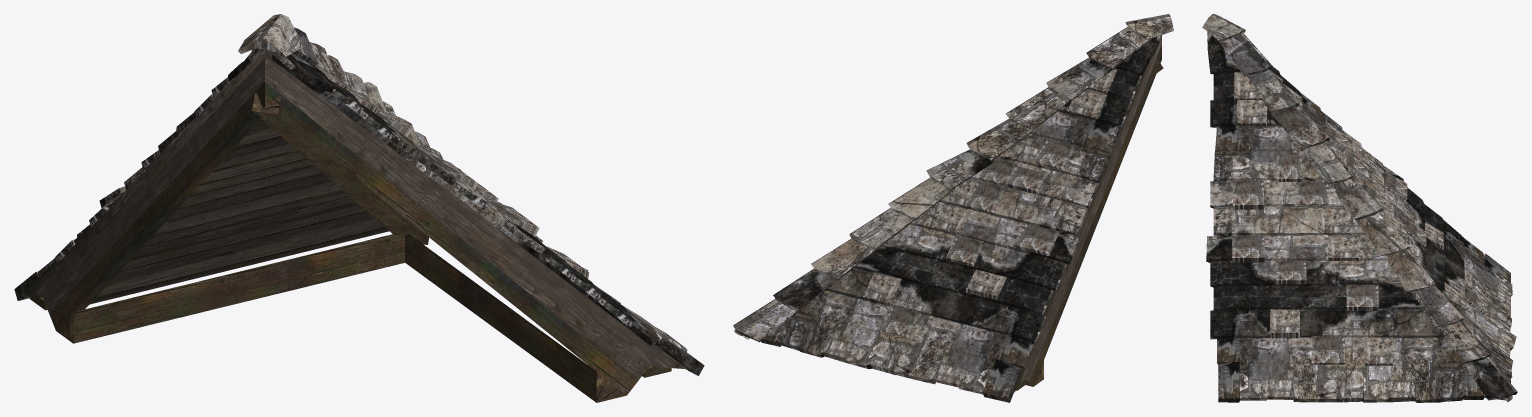
3 views of the same model, side by side, from view 1: azimuth 30°, elevation 25°; view 2: azimuth 150°, elevation 25°; view 3: azimuth 270°, elevation 25° (orthographic). The views are drawn at different scales.
Visible parts, largest first — view 1: SM_BB_T3_Roof_Large_Hip_Diagonal_LOD0; view 2: SM_BB_T3_Roof_Large_Hip_Diagonal_LOD0; view 3: SM_BB_T3_Roof_Large_Hip_Diagonal_LOD0.
Part boxes in pixels (x1,y1,x2,y2): SM_BB_T3_Roof_Large_Hip_Diagonal_LOD0: [14, 14, 704, 402]; SM_BB_T3_Roof_Large_Hip_Diagonal_LOD0: [733, 14, 1173, 402]; SM_BB_T3_Roof_Large_Hip_Diagonal_LOD0: [1202, 14, 1517, 402].
Size of the model in its own units: 3.91 by 3.57 by 3.88.
Materials: 4 (3 with a texture image).
